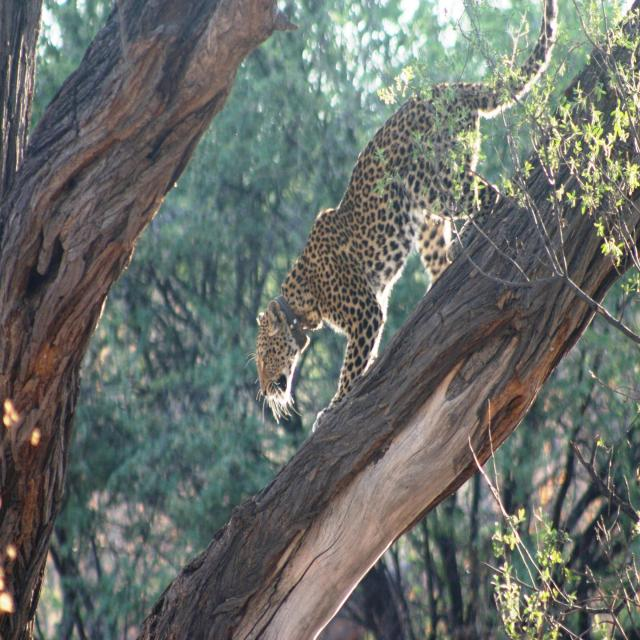Leopard: (218, 13, 596, 489)
